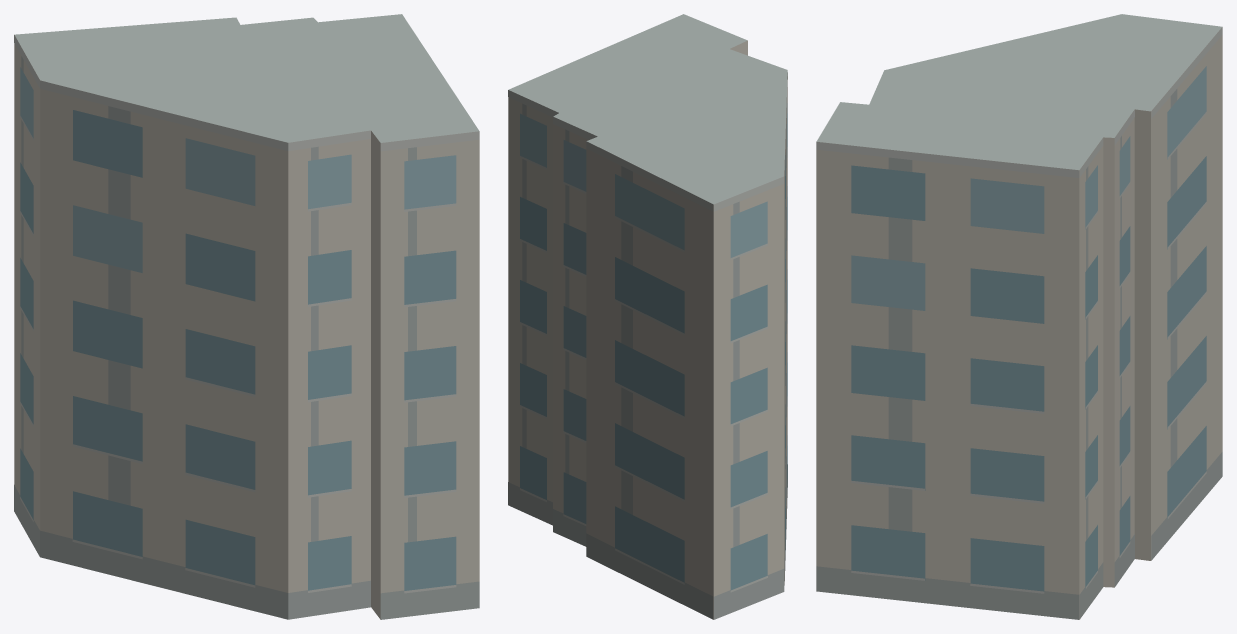
The model's file is survey-upis-32831319.glb.
3 renders of one model, left to right at view 1: azimuth 30°, elevation 25°; view 2: azimuth 150°, elevation 25°; view 3: azimuth 270°, elevation 25°, orthographic. The views are drawn at different scales.
Visible parts, largest first — view 1: survey-upis-32831319.tmp; view 2: survey-upis-32831319.tmp; view 3: survey-upis-32831319.tmp.
Part boxes in pixels (x1,y1,x2,y2): survey-upis-32831319.tmp: (14, 14, 479, 619); survey-upis-32831319.tmp: (508, 14, 787, 619); survey-upis-32831319.tmp: (816, 14, 1222, 619).
Size of the model in its own units: 10.29 by 13.8 by 11.31.
